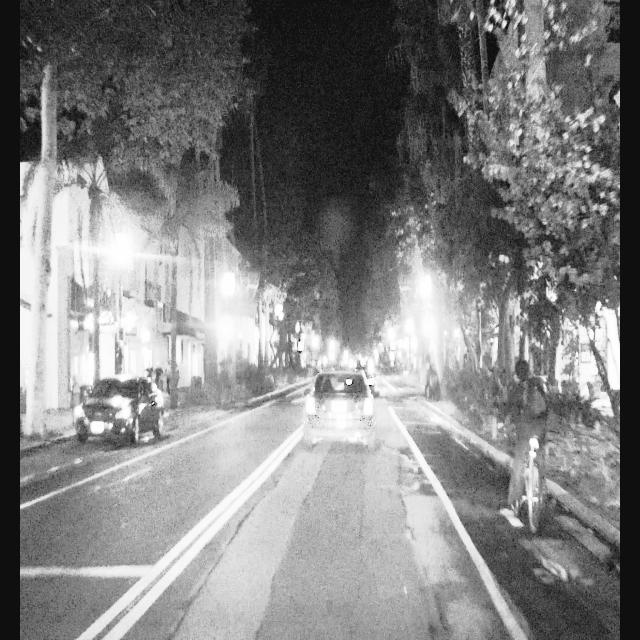Tree: (537, 0, 621, 513), (22, 4, 72, 439)
